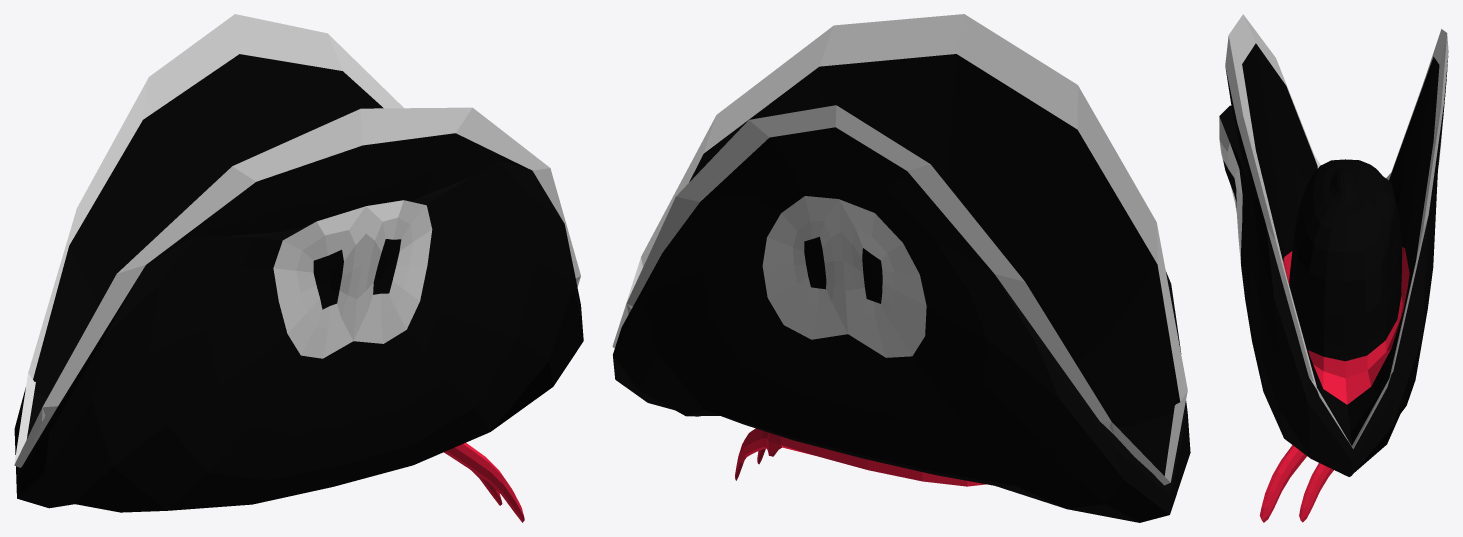
The model's file is chapeu_11.fbx.
3 renders of one model, left to right at view 1: azimuth 30°, elevation 25°; view 2: azimuth 150°, elevation 25°; view 3: azimuth 270°, elevation 25°, orthographic. The views are drawn at different scales.
Visible parts, largest first — view 1: chapeu 11; view 2: chapeu 11; view 3: chapeu 11.
Boxes of the visible parts, <box> form: chapeu 11: <box>14,14,583,522</box>; chapeu 11: <box>612,14,1190,522</box>; chapeu 11: <box>1219,14,1448,522</box>.
Bounding box in the file's own units: 627 × 519 × 261.
